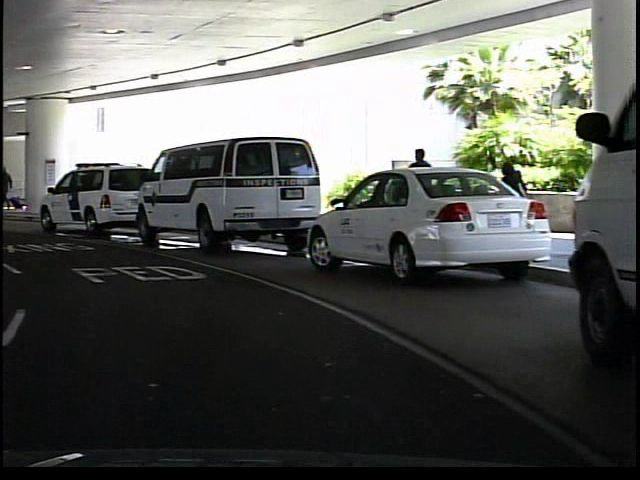person: (492, 155, 530, 245), (402, 143, 436, 241)
